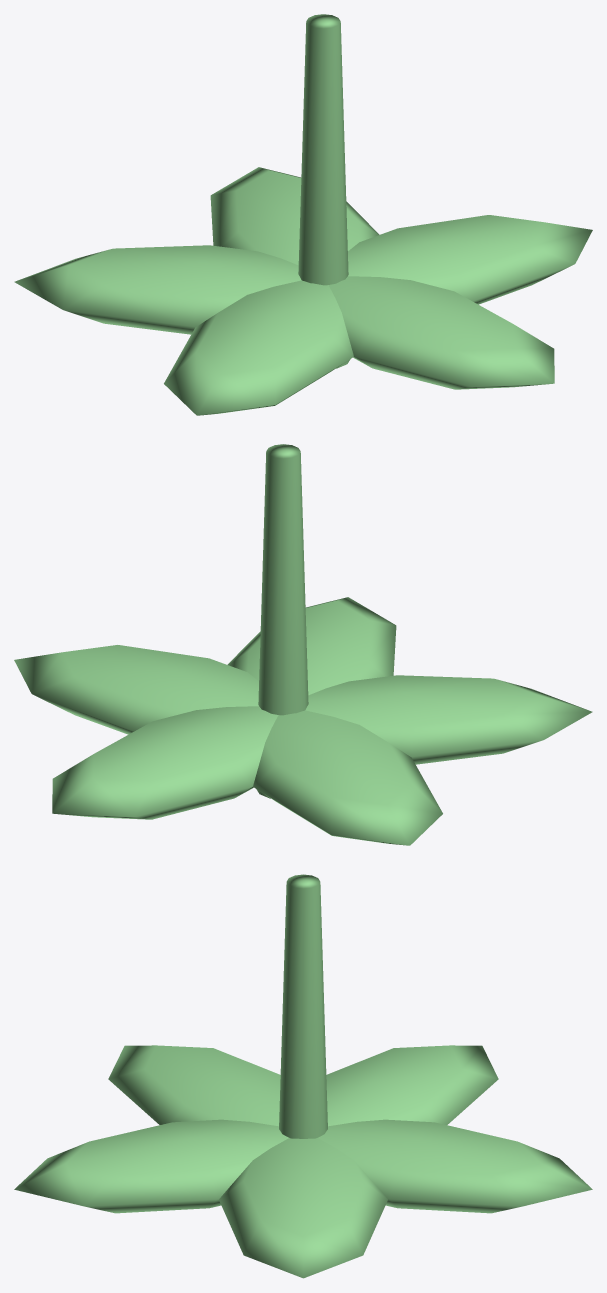
File: herb.glb
3 views of the same model, one above another, from view 1: azimuth 30°, elevation 25°; view 2: azimuth 150°, elevation 25°; view 3: azimuth 270°, elevation 25° (orthographic). The views are drawn at different scales.
Bounding box in the file's own units: 0.3256 × 0.215 × 0.3424.
